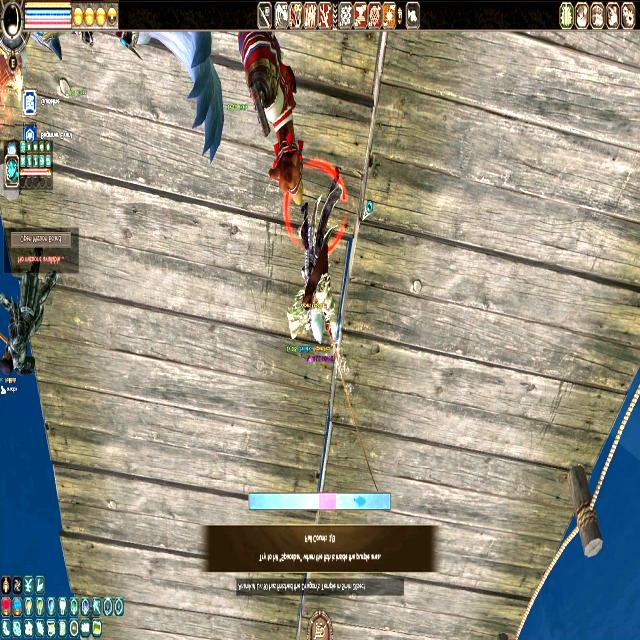fishes: (353, 495, 366, 509)
